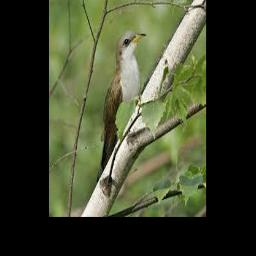Cuckoo: (96, 31, 146, 184)
